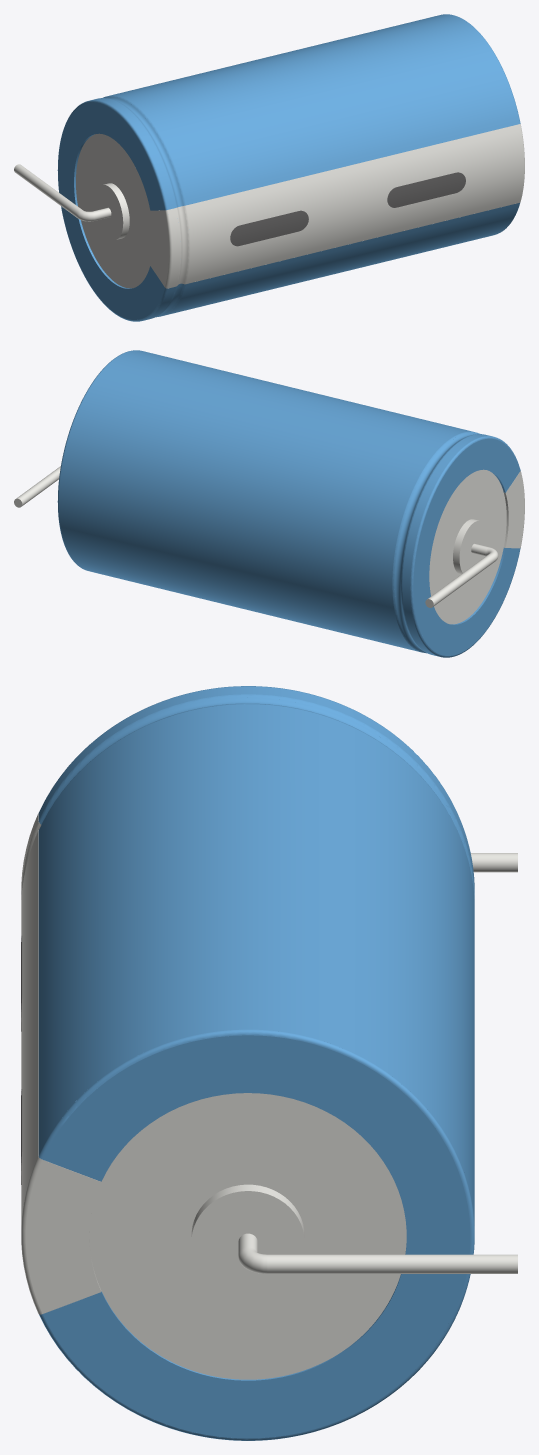
File: CP_Axial_L38.0mm_D21.0mm_P44.00mm_Horizontal.glb
The picture shows the model from 3 angles, top to bottom: view 1: azimuth 30°, elevation 25°; view 2: azimuth 150°, elevation 25°; view 3: azimuth 270°, elevation 25°; orthographic projection. The views are drawn at different scales.
Visible parts, largest first — view 1: Shape_IndexedFaceSet.009, Shape_IndexedFaceSet.049, Shape_IndexedFaceSet.006, Shape_IndexedFaceSet.064, Shape_IndexedFaceSet.028, Shape_IndexedFaceSet.018, Shape_IndexedFaceSet, Shape_IndexedFaceSet.041, Shape_IndexedFaceSet.005, Shape_IndexedFaceSet.062, Shape_IndexedFaceSet.003, Shape_IndexedFaceSet.051 (+5 smaller); view 2: Shape_IndexedFaceSet.009, Shape_IndexedFaceSet.006, Shape_IndexedFaceSet.064, Shape_IndexedFaceSet, Shape_IndexedFaceSet.005, Shape_IndexedFaceSet.003, Shape_IndexedFaceSet.041, Shape_IndexedFaceSet.062, Shape_IndexedFaceSet.051, Shape_IndexedFaceSet.007, Shape_IndexedFaceSet.055, Shape_IndexedFaceSet.002 (+2 smaller); view 3: Shape_IndexedFaceSet.009, Shape_IndexedFaceSet.059, Shape_IndexedFaceSet.012, Shape_IndexedFaceSet.046, Shape_IndexedFaceSet.057, Shape_IndexedFaceSet.049, Shape_IndexedFaceSet.011, Shape_IndexedFaceSet.055, Shape_IndexedFaceSet, Shape_IndexedFaceSet.005, Shape_IndexedFaceSet.002, Shape_IndexedFaceSet.051.
Boxes of the visible parts, <box> form: Shape_IndexedFaceSet.009: <box>109,14,519,315</box>; Shape_IndexedFaceSet.049: <box>186,124,523,283</box>; Shape_IndexedFaceSet.006: <box>58,102,164,319</box>; Shape_IndexedFaceSet.064: <box>76,133,153,288</box>; Shape_IndexedFaceSet.028: <box>387,172,465,207</box>; Shape_IndexedFaceSet.018: <box>230,210,308,246</box>; Shape_IndexedFaceSet: <box>91,98,175,320</box>; Shape_IndexedFaceSet.041: <box>150,210,169,286</box>; Shape_IndexedFaceSet.005: <box>105,97,183,316</box>; Shape_IndexedFaceSet.062: <box>95,185,123,239</box>; Shape_IndexedFaceSet.003: <box>57,100,167,321</box>; Shape_IndexedFaceSet.051: <box>14,164,82,217</box>; Shape_IndexedFaceSet.009: <box>59,350,473,651</box>; Shape_IndexedFaceSet.006: <box>413,438,520,655</box>; Shape_IndexedFaceSet.064: <box>429,469,506,624</box>; Shape_IndexedFaceSet: <box>402,434,491,656</box>; Shape_IndexedFaceSet.005: <box>394,433,477,652</box>; Shape_IndexedFaceSet.003: <box>410,436,520,657</box>; Shape_IndexedFaceSet.041: <box>505,471,524,548</box>; Shape_IndexedFaceSet.062: <box>459,520,487,572</box>; Shape_IndexedFaceSet.051: <box>427,553,496,606</box>; Shape_IndexedFaceSet.007: <box>392,431,479,653</box>; Shape_IndexedFaceSet.055: <box>16,466,60,505</box>; Shape_IndexedFaceSet.002: <box>401,434,481,653</box>; Shape_IndexedFaceSet.009: <box>38,704,474,1380</box>; Shape_IndexedFaceSet.059: <box>89,1093,406,1379</box>; Shape_IndexedFaceSet.012: <box>43,1035,470,1438</box>; Shape_IndexedFaceSet.046: <box>25,1160,101,1313</box>; Shape_IndexedFaceSet.057: <box>191,1191,304,1293</box>; Shape_IndexedFaceSet.049: <box>21,831,38,1224</box>; Shape_IndexedFaceSet.011: <box>38,1029,474,1440</box>; Shape_IndexedFaceSet.055: <box>267,1254,517,1273</box>; Shape_IndexedFaceSet: <box>38,686,474,888</box>; Shape_IndexedFaceSet.005: <box>40,697,467,858</box>; Shape_IndexedFaceSet.002: <box>38,694,474,898</box>; Shape_IndexedFaceSet.051: <box>470,853,517,872</box>.
Bounding box in the file's own units: 17.68 × 8.27 × 9.06.
